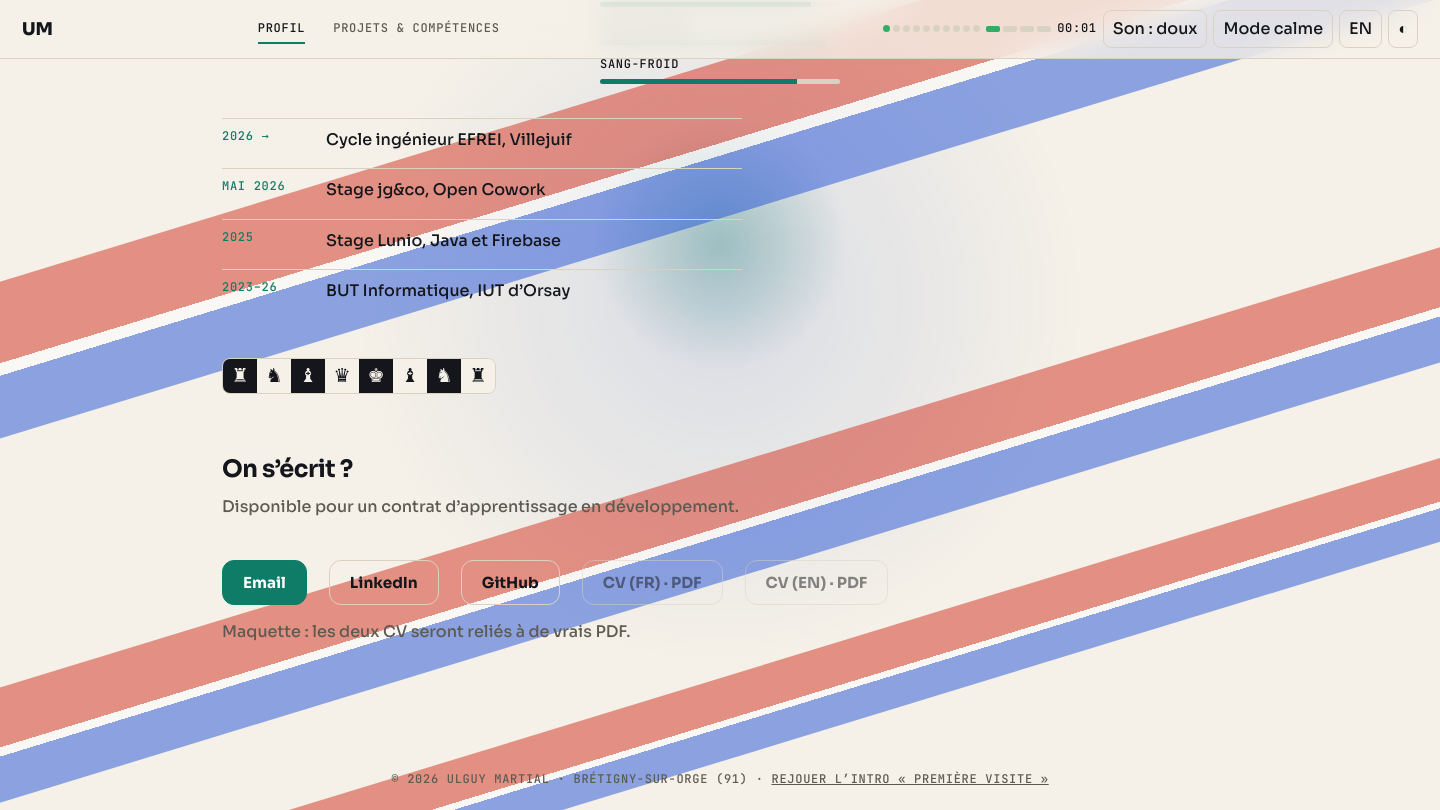
App component › shows the short return door, raises it after 1.1s, and can replay the full intro
Later steps or results of the test are not shown.
(page scrolled)
Expected: the text "Lever la porte" is not shown
Step 1. Click the button "Rejouer l’intro « première visite »" → (910, 780), box [772, 770, 1049, 790]
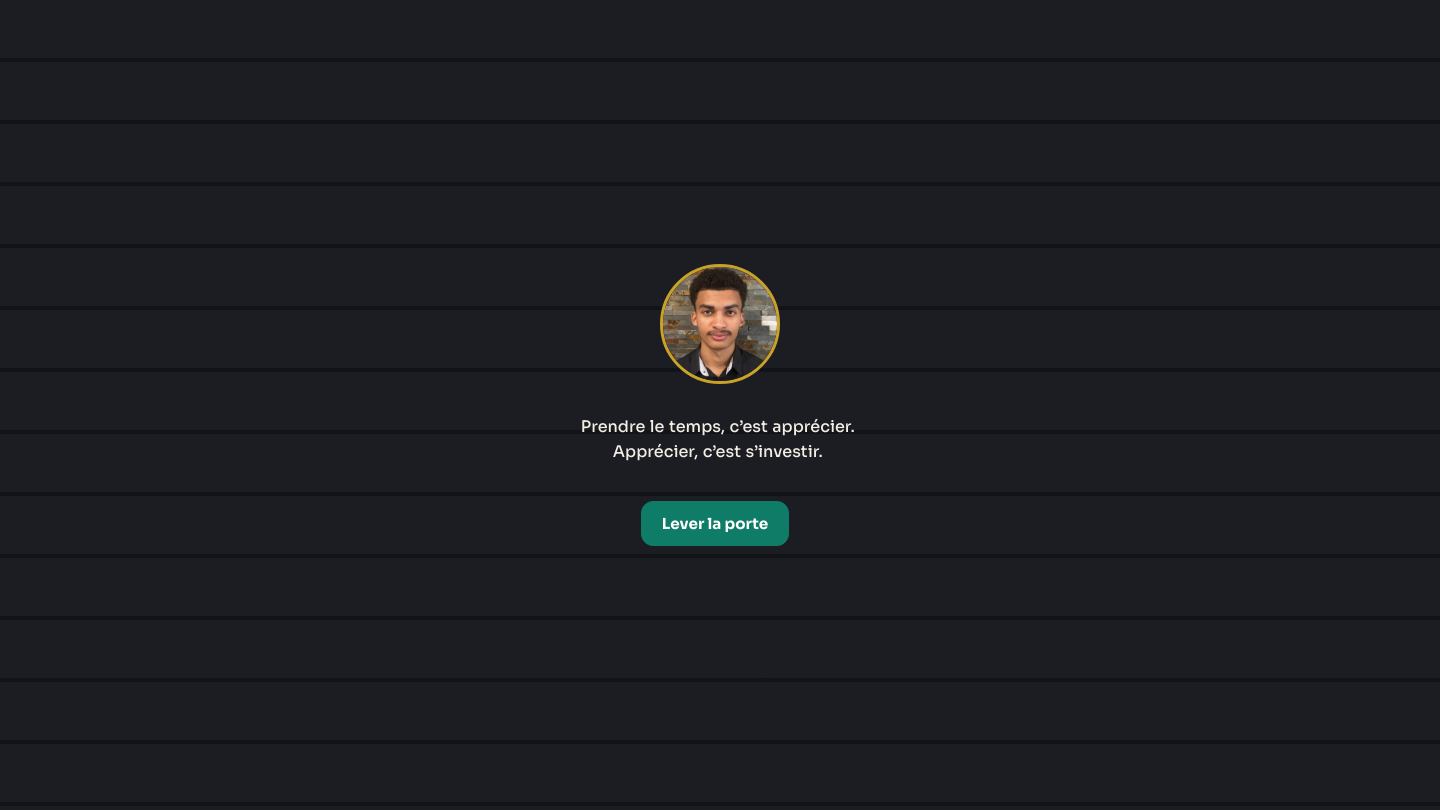
Expected: the button "Lever la porte" is shown, [641, 501, 789, 546]
